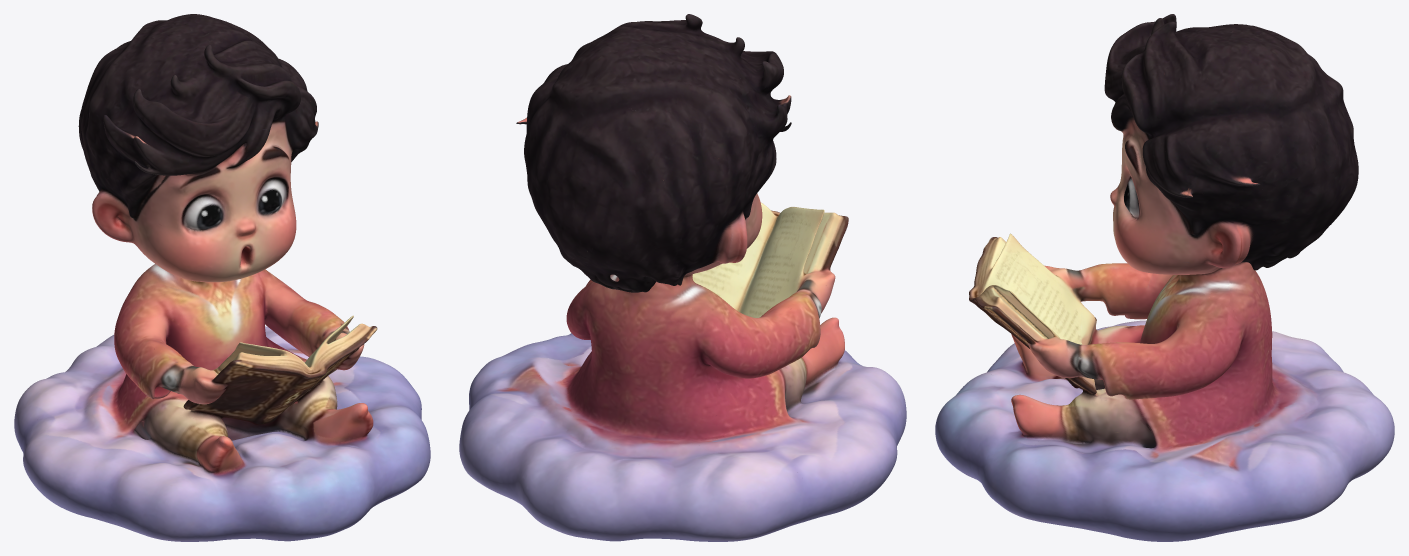
File: data-mage.glb
3 views of the same model, side by side, from view 1: azimuth 30°, elevation 25°; view 2: azimuth 150°, elevation 25°; view 3: azimuth 270°, elevation 25° (orthographic). The views are drawn at different scales.
Size of the model in its own units: 1.74 by 1.9 by 1.81.
Materials: 1 (1 with a texture image).
